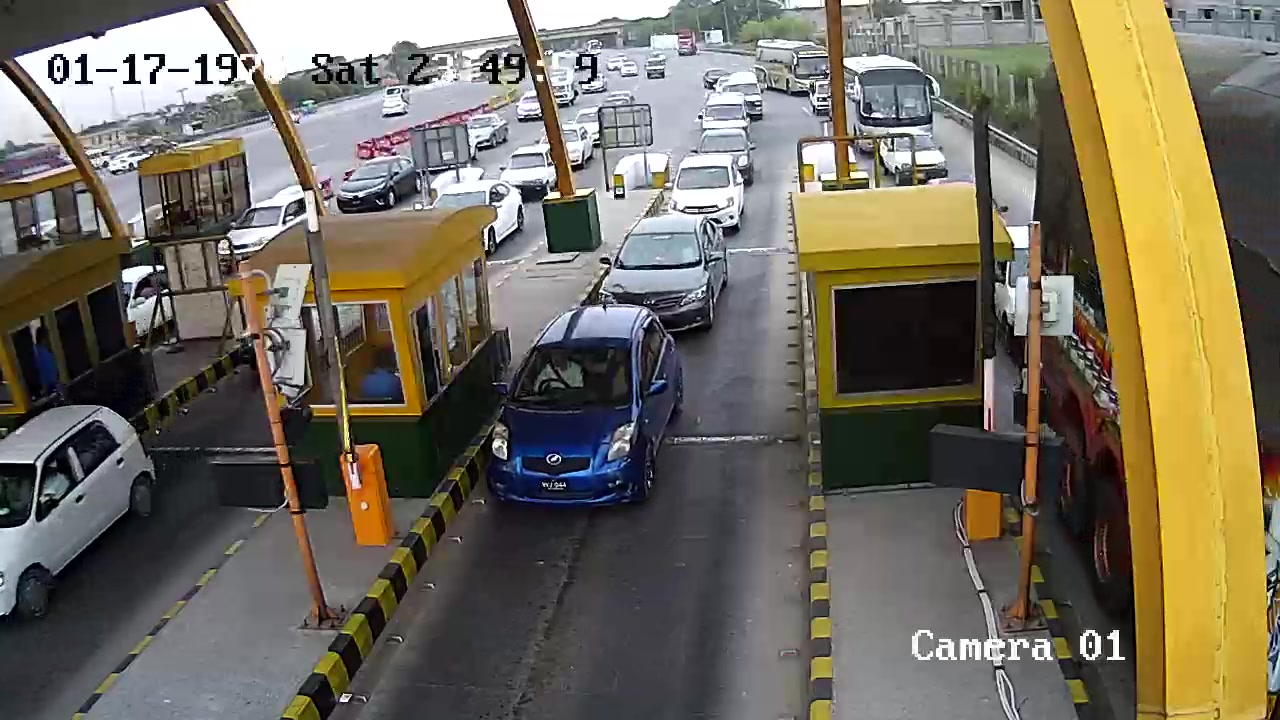F1: (481, 306, 692, 520)
